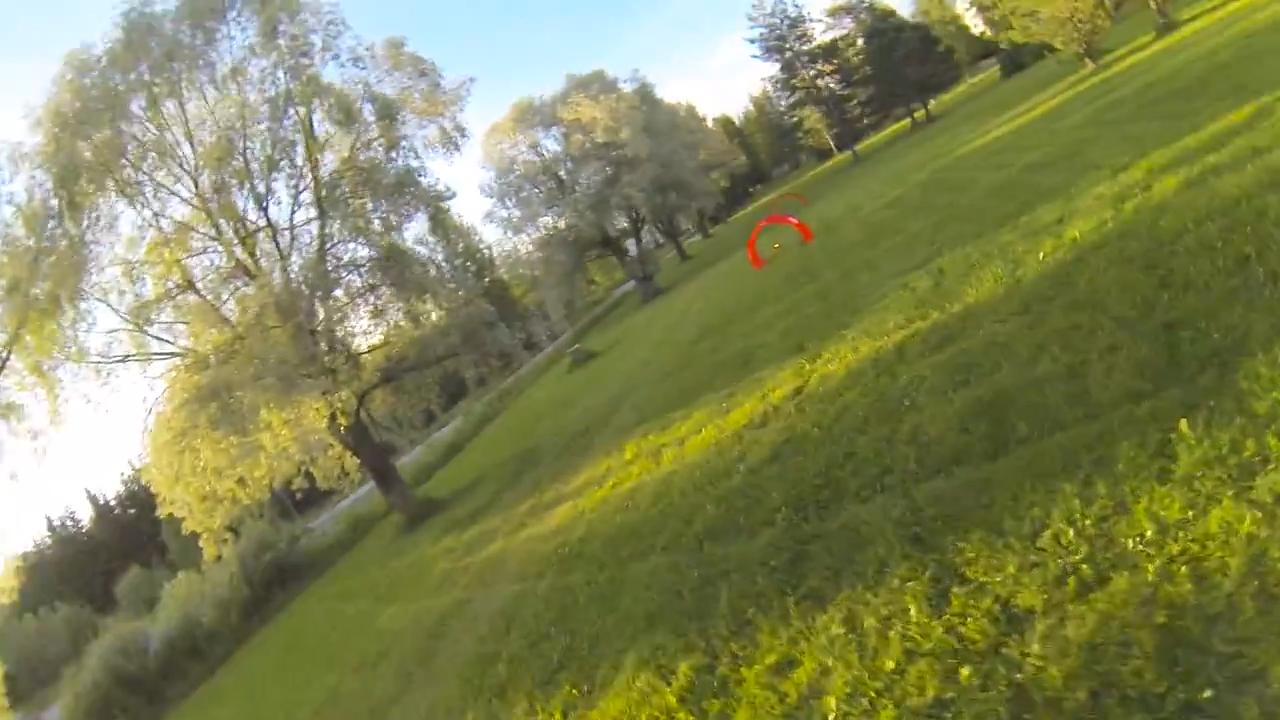gate: (741, 215, 811, 271)
